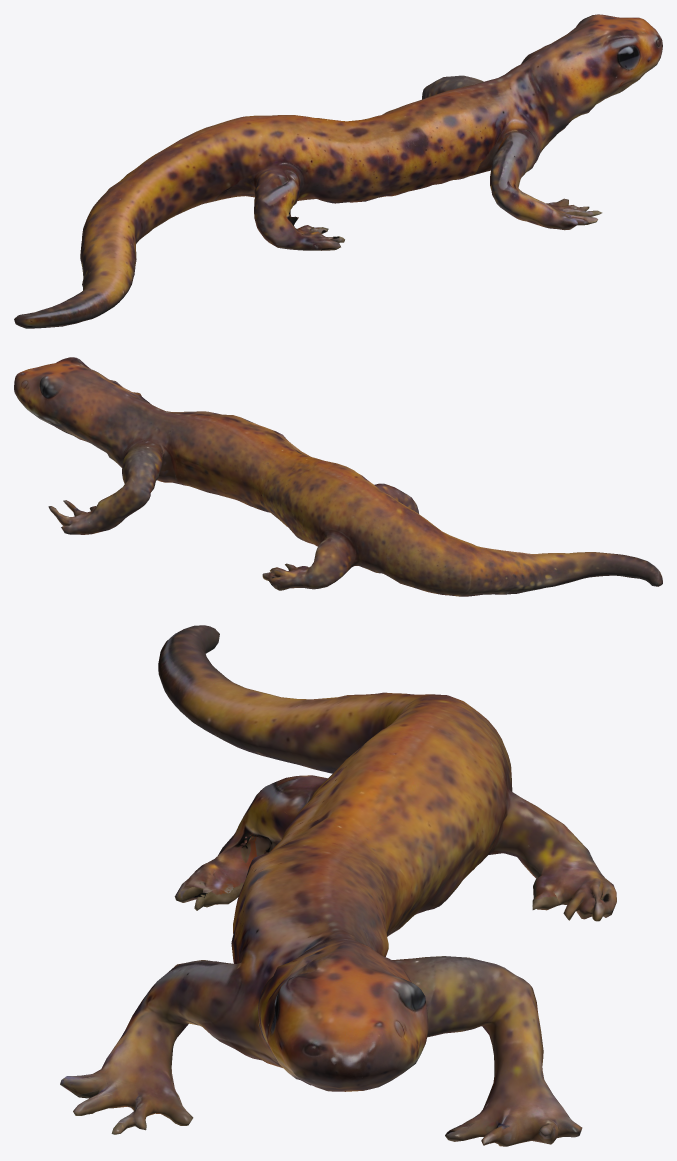
The model's file is allegheny-mountain-dusky-salamander.glb.
3 views of the same model, one above another, from view 1: azimuth 30°, elevation 25°; view 2: azimuth 150°, elevation 25°; view 3: azimuth 270°, elevation 25° (orthographic). The views are drawn at different scales.
Size of the model in its own units: 2 by 0.3634 by 0.7902.
1 material, 1 textured.
